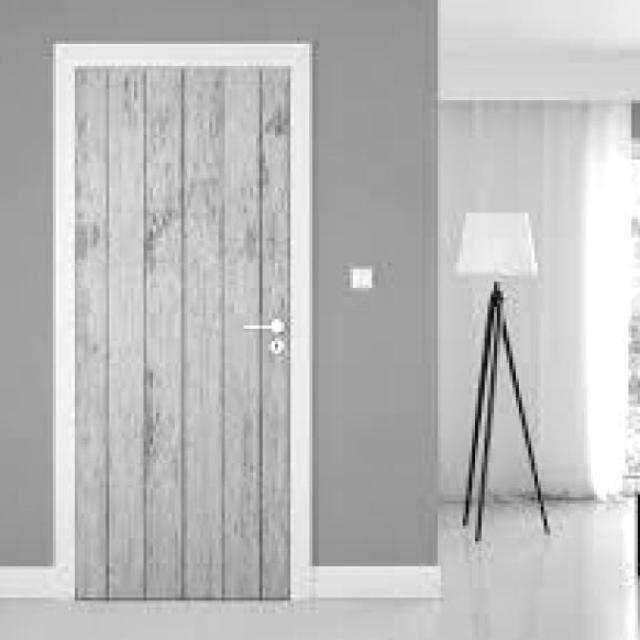door: (68, 48, 296, 601)
